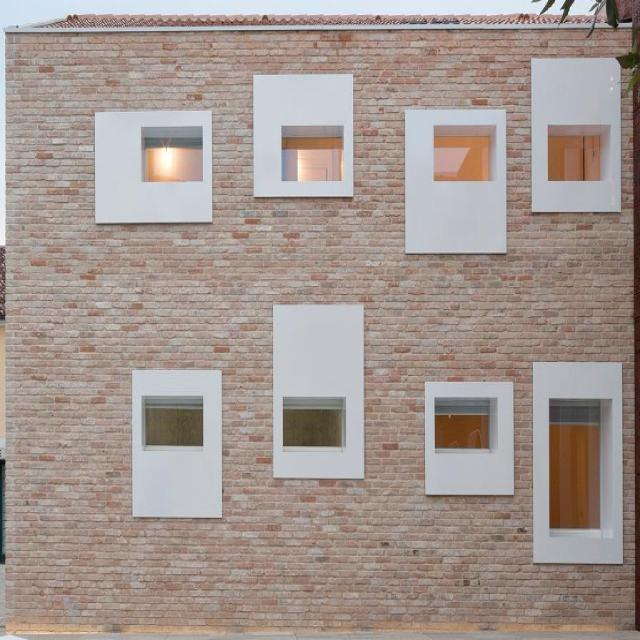window: (551, 409, 601, 531), (146, 138, 205, 185), (548, 134, 601, 181), (283, 139, 341, 181), (434, 139, 490, 181), (145, 407, 205, 446), (435, 407, 488, 449), (282, 411, 342, 446)
